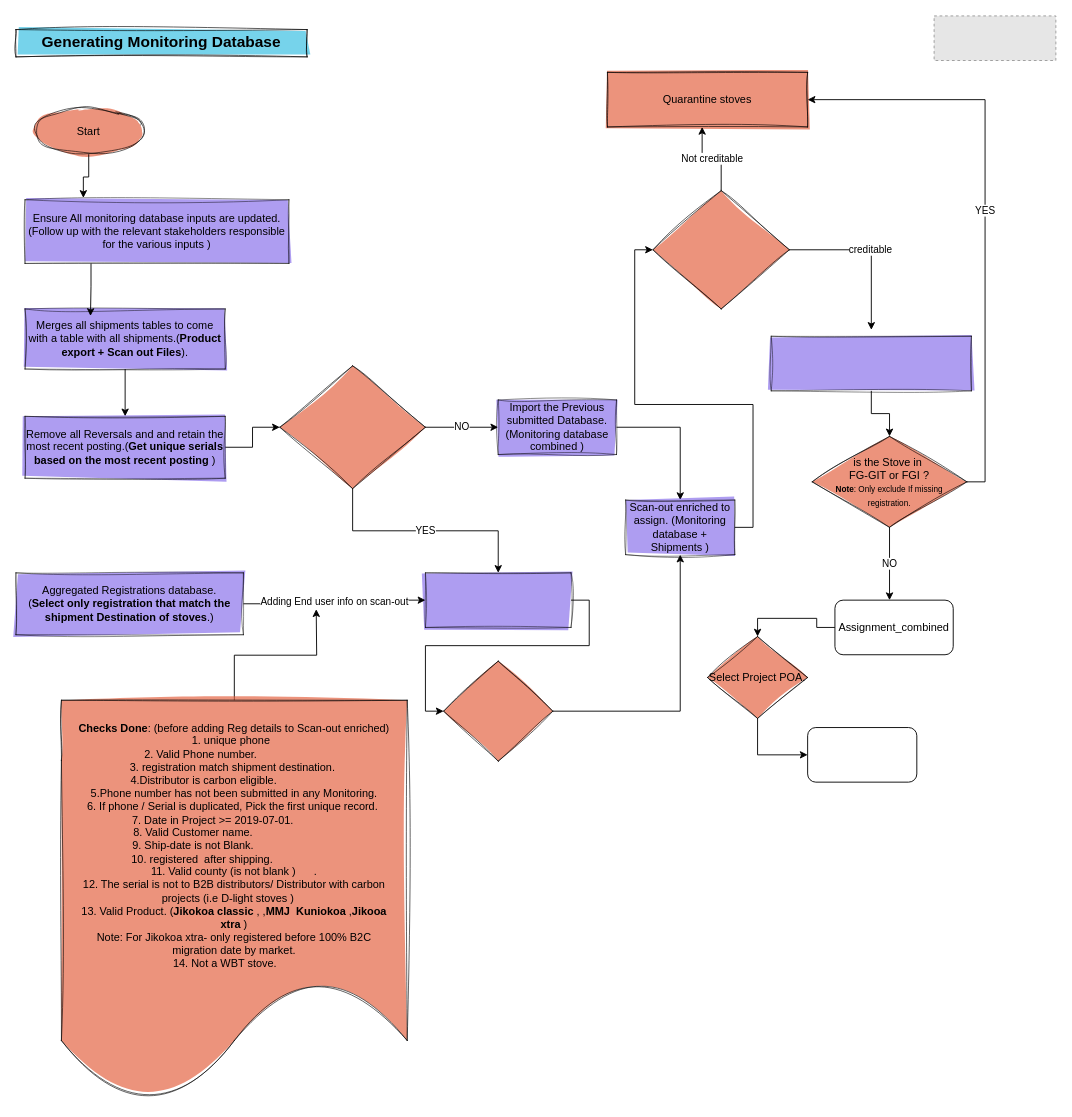
Image size: 1072x1117. Some labels were removed from this diagram. Grey dashed boxes stand in for pictures. Each missing label, with the centre of its shape:
"Assign based on rules. 5th April 2024 Stove Assignment rules.xlsx" belongs at (x=720, y=249).
"exclude serial in monitoring database ." belongs at (x=498, y=710).
"Is it the First Monitoring period ?" belongs at (x=352, y=427).
"Project specific Monitoring database." belongs at (x=862, y=754).
"Scan-out enriched Assigned. (Assigned Stoves by Project )" belongs at (x=870, y=363).
"Scan-out enriched. ( shipments + end user info )" belongs at (x=498, y=599).
